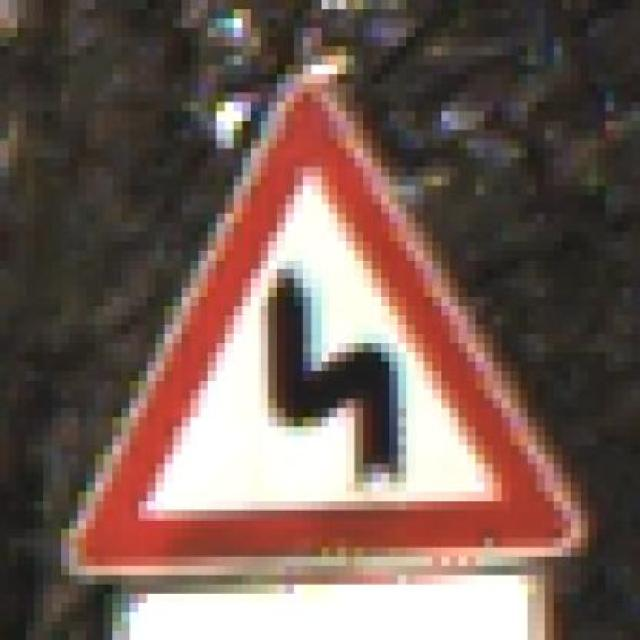Left Zig Zag Traffic: (43, 65, 623, 584)
